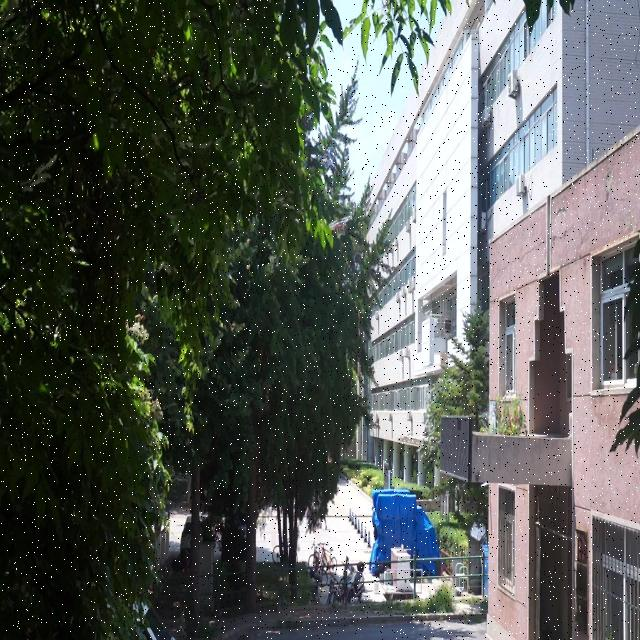UAV: (328, 217, 351, 239)
